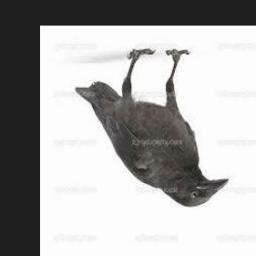Crow: (75, 48, 229, 208)
